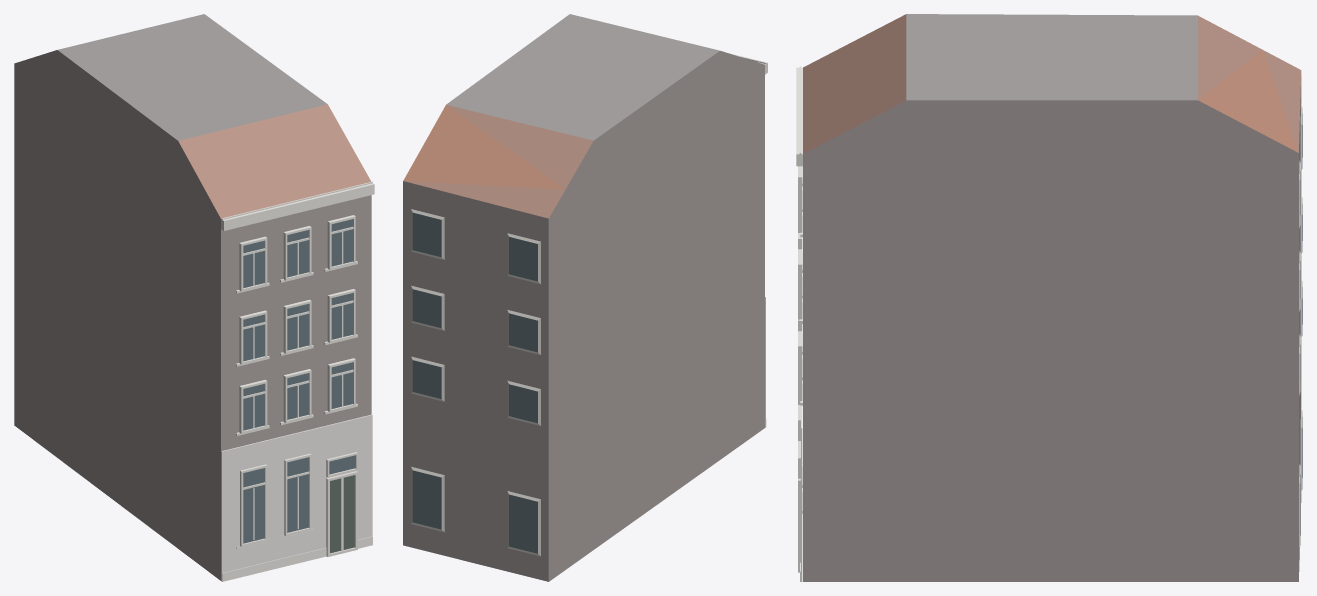
Rendered from chunk-face-egelantiersgracht-3-43-h3.glb.
The picture shows the model from 3 angles, left to right: view 1: azimuth 30°, elevation 25°; view 2: azimuth 150°, elevation 25°; view 3: azimuth 270°, elevation 25°; orthographic projection. The views are drawn at different scales.
Parts seen in each view (by area): view 1: face-egelantiersgracht-3-43-h3; view 2: face-egelantiersgracht-3-43-h3; view 3: face-egelantiersgracht-3-43-h3.
Boxes of the visible parts, left/top/right/bottom form: face-egelantiersgracht-3-43-h3: left=14, top=14, right=374, bottom=581; face-egelantiersgracht-3-43-h3: left=403, top=14, right=767, bottom=581; face-egelantiersgracht-3-43-h3: left=796, top=14, right=1302, bottom=581.
Size of the model in its own units: 5.47 by 14.15 by 13.48.
